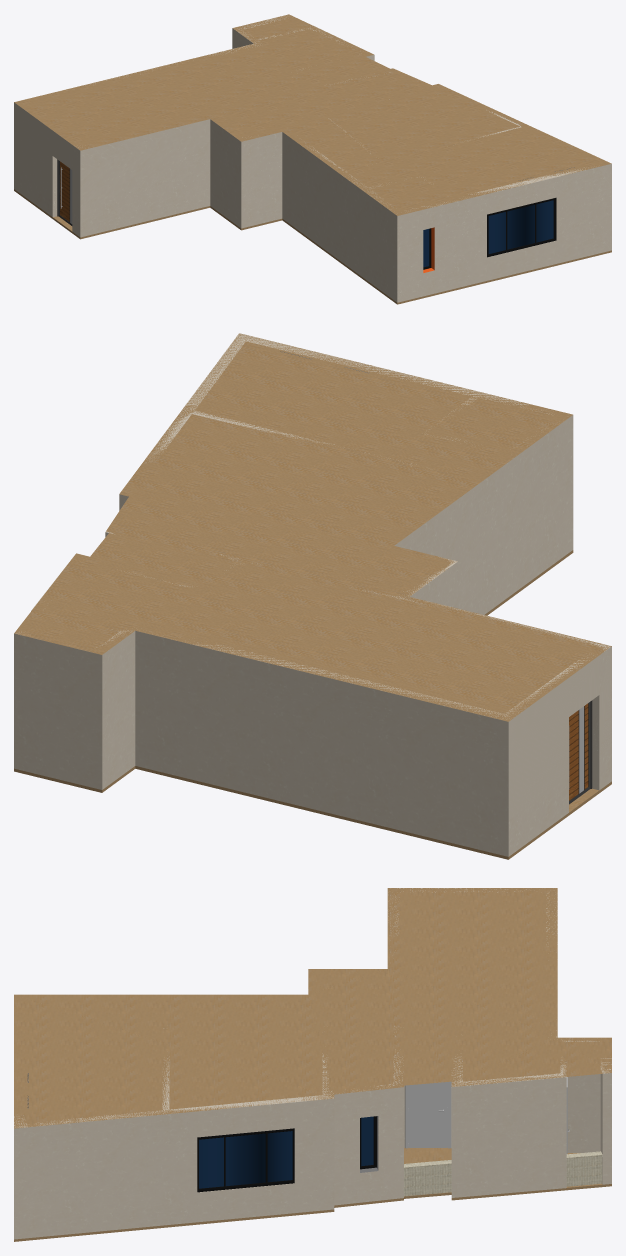
The model's file is Flat04_T.fbx.
The picture shows the model from 3 angles, top to bottom: view 1: azimuth 30°, elevation 25°; view 2: azimuth 150°, elevation 25°; view 3: azimuth 270°, elevation 25°; orthographic projection. The views are drawn at different scales.
Visible parts, largest first — view 1: Line003, Line001, Object34580, Line002, door_4.001_door_4_0; view 2: Line003, Line001, Line002, door_4.001_door_4_0; view 3: Line003, Line001, Object34580, Line002, door_door_008, door_frame_door_008.
Boxes of the visible parts, x1,y1,x2,y2 form: Line003: [14, 14, 611, 215]; Line001: [14, 15, 611, 302]; Object34580: [423, 198, 556, 269]; Line002: [14, 189, 611, 304]; door_4.001_door_4_0: [57, 159, 72, 225]; Line003: [14, 333, 611, 721]; Line001: [14, 333, 611, 856]; Line002: [14, 550, 611, 859]; door_4.001_door_4_0: [569, 700, 592, 804]; Line003: [14, 888, 611, 1128]; Line001: [14, 888, 611, 1239]; Object34580: [197, 1116, 376, 1192]; Line002: [14, 1147, 611, 1241]; door_door_008: [408, 1082, 447, 1147]; door_frame_door_008: [405, 1081, 451, 1148].
Bounding box in the file's own units: 1291 × 285 × 1356.
